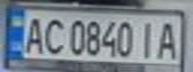0: (115, 18, 136, 58), (66, 16, 87, 56)
4: (100, 18, 118, 57)
8: (84, 17, 103, 56)
A: (154, 18, 181, 61), (21, 14, 48, 54)
C: (39, 15, 66, 55)
I: (136, 18, 160, 60)
